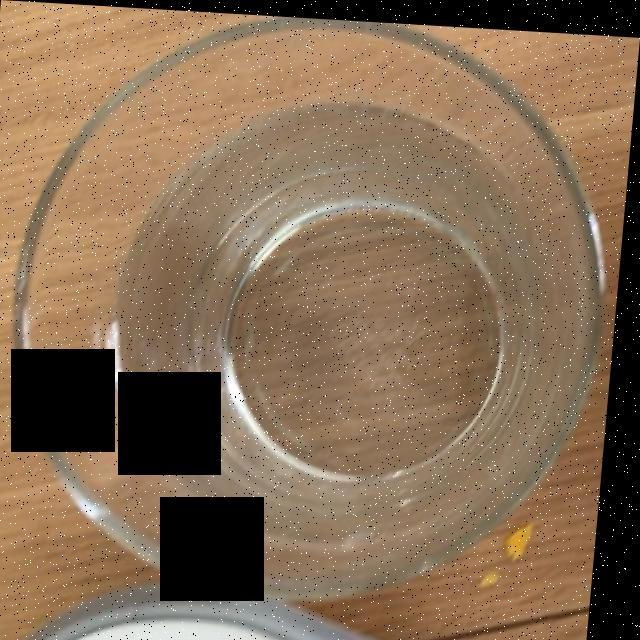water: (120, 109, 564, 564)
